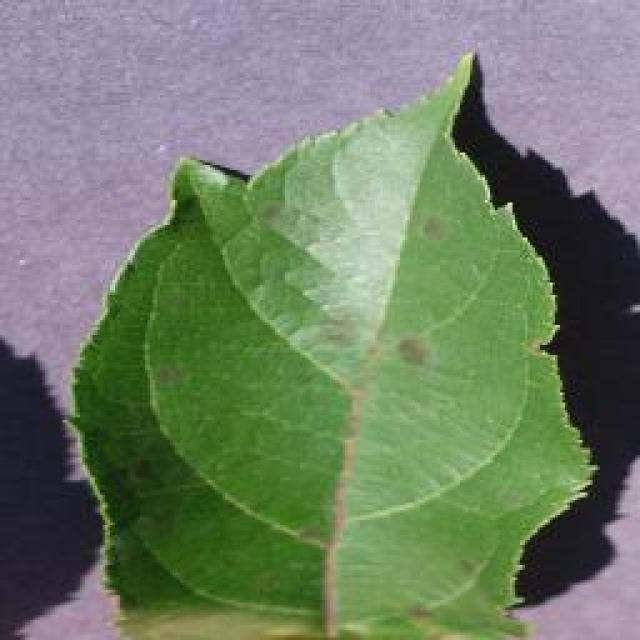apple scab disease: (65, 50, 600, 638)
